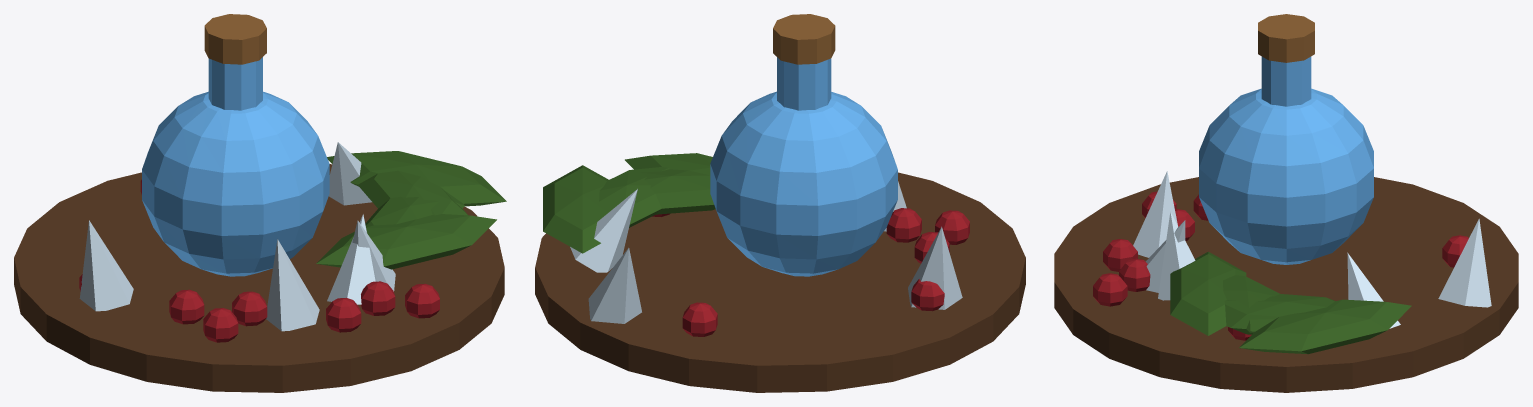
The model's file is VFP_Food_EternalFrostEssence.obj.
3 renders of one model, left to right at view 1: azimuth 30°, elevation 25°; view 2: azimuth 150°, elevation 25°; view 3: azimuth 270°, elevation 25°, orthographic. The views are drawn at different scales.
Parts seen in each view (by area): view 1: Board, Flask, Leaves, Crystals, Berries, Flask_cork; view 2: Board, Flask, Leaves, Crystals, Berries, Flask_cork; view 3: Board, Flask, Leaves, Crystals, Berries, Flask_cork.
Boxes of the visible parts, x1,y1,x2,y2 form: Board: (14, 164, 504, 392); Flask: (142, 57, 329, 276); Leaves: (316, 151, 506, 269); Crystals: (79, 142, 395, 331); Berries: (79, 179, 439, 342); Flask_cork: (204, 14, 266, 64); Board: (535, 172, 1025, 392); Flask: (710, 57, 897, 276); Leaves: (543, 153, 715, 253); Crystals: (570, 181, 962, 323); Berries: (652, 208, 969, 336); Flask_cork: (773, 14, 835, 64); Board: (1054, 177, 1518, 392); Flask: (1199, 56, 1373, 264); Leaves: (1170, 251, 1411, 354); Crystals: (1133, 171, 1491, 328); Berries: (1093, 191, 1468, 340); Flask_cork: (1258, 14, 1314, 62).
Bounding box in the file's own units: 0.3744 × 0.217 × 0.3564.
